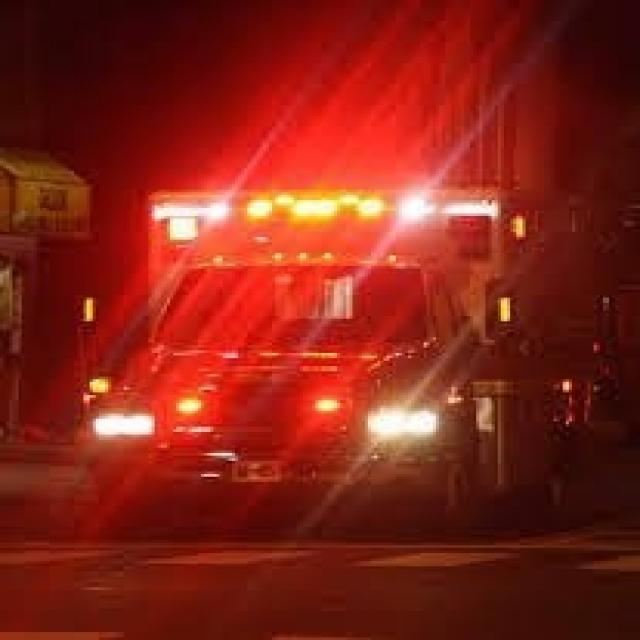ambulance: (60, 163, 597, 565)
